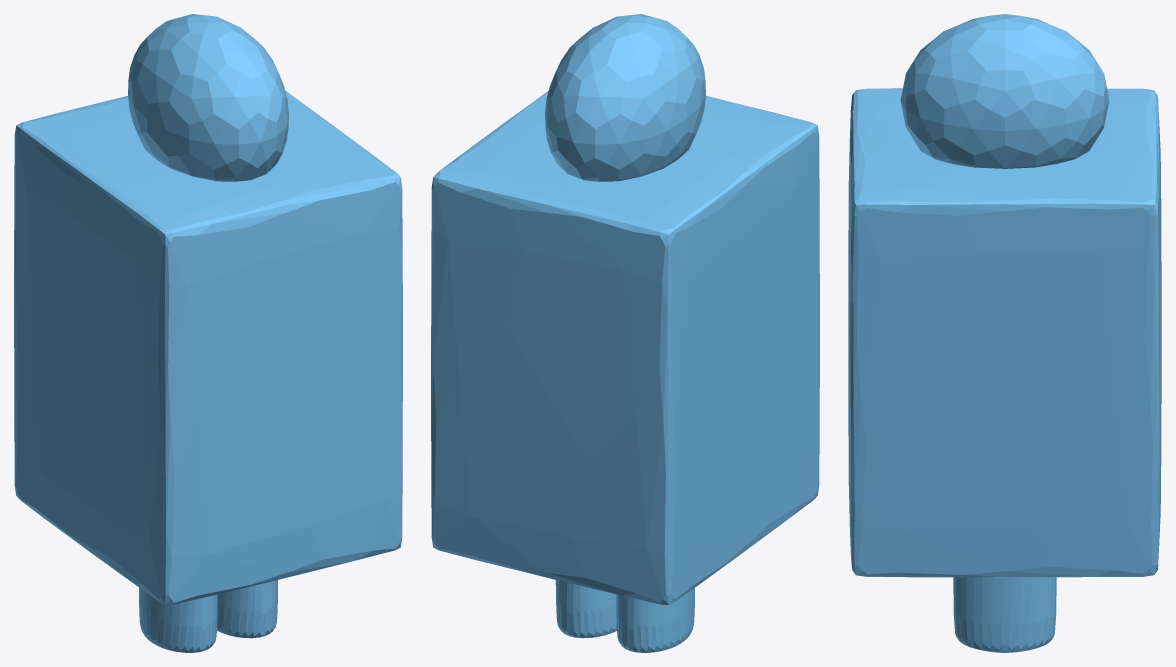
File: hero6_variant1.glb
3 renders of one model, left to right at view 1: azimuth 30°, elevation 25°; view 2: azimuth 150°, elevation 25°; view 3: azimuth 270°, elevation 25°, orthographic.
Visible parts, largest first — view 1: hero6; view 2: hero6; view 3: hero6.
Boxes of the visible parts, bbox=[...] form: hero6: bbox=[14, 14, 402, 652]; hero6: bbox=[431, 14, 819, 652]; hero6: bbox=[848, 14, 1161, 652].
Size of the model in its own units: 0.7995 by 1.92 by 0.8989.
